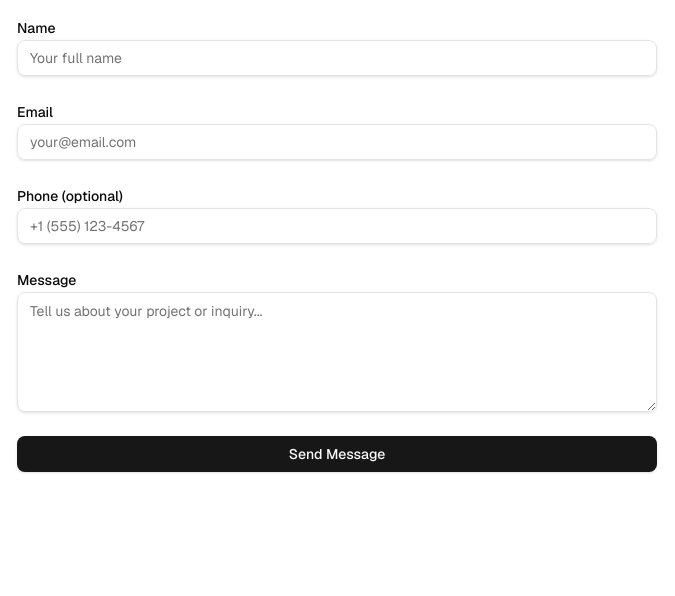
Test: ContactForm › Error Handling › displays server error message on 500 response
// Fill and submit form
Step 1. Type "John Doe" into the field labelled "Name" → [337, 58], box [17,40,657,76]
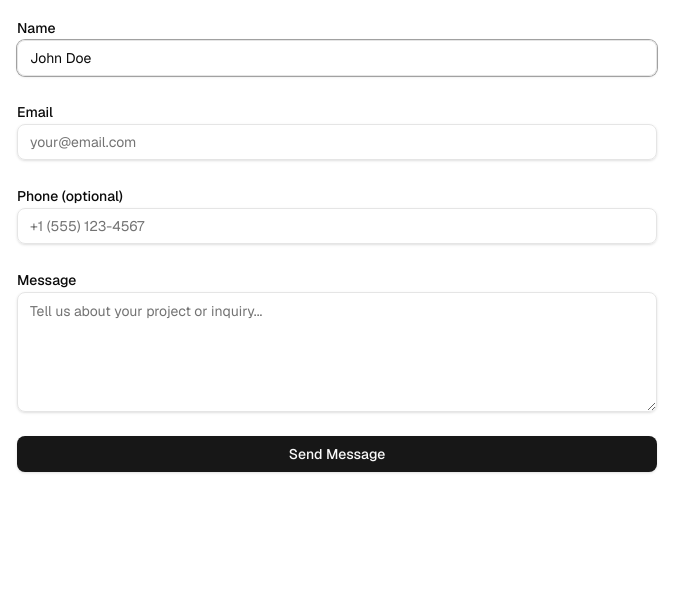
Step 2. Type "john@example.com" into the field labelled "Email" → [337, 142], box [17,124,657,160]
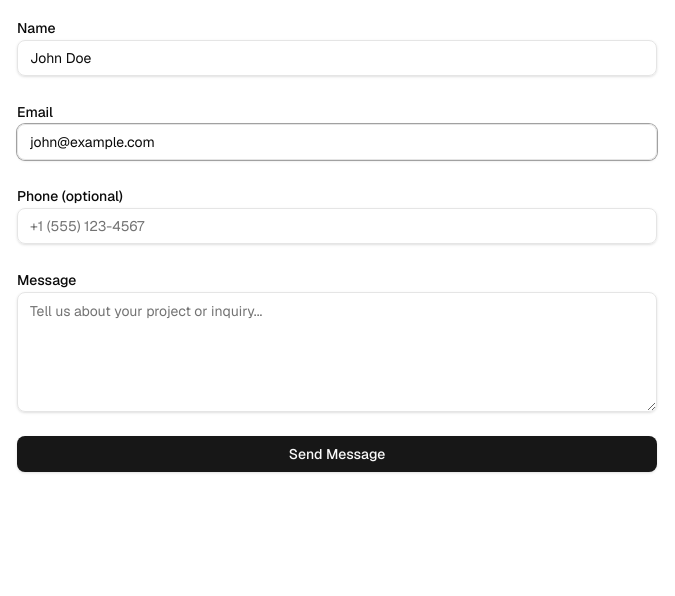
Step 3. Type "Test message with enough characters" into the text box labelled "Message" → [337, 352], box [17,292,657,412]
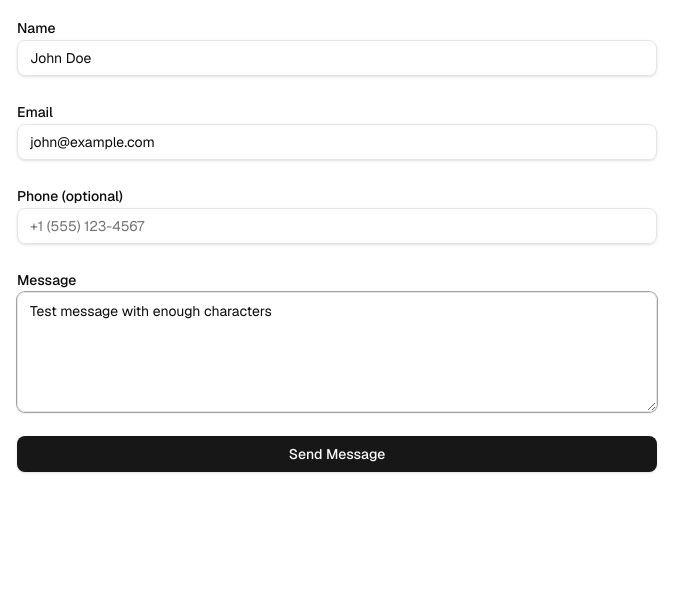
Step 4. Click the button "Send Message" → [337, 454], box [17,436,657,472]
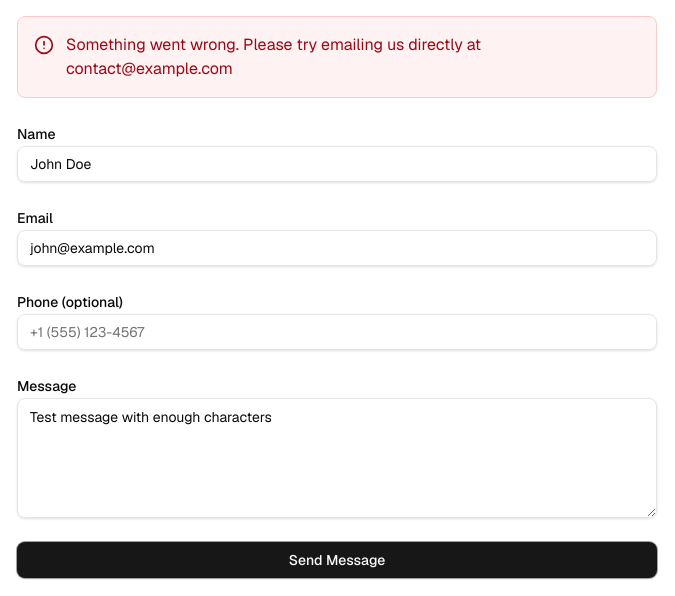
Check: the text "Something went wrong" is shown, box [66,34,481,79]
